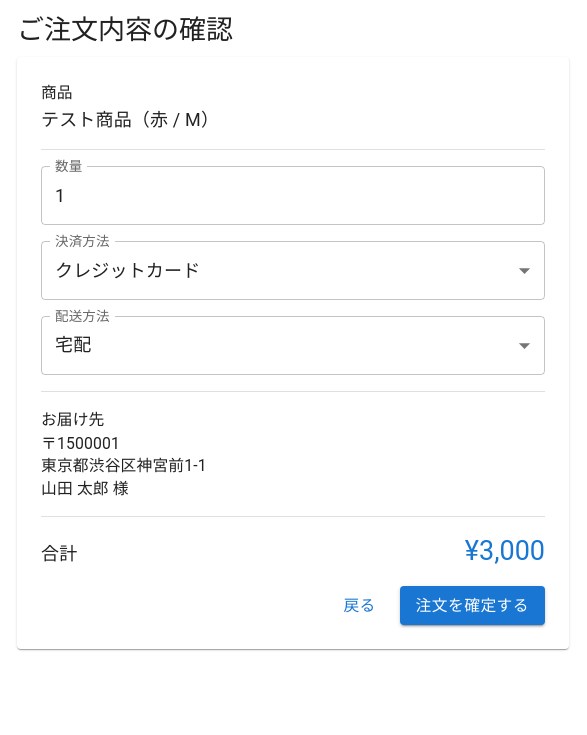
Test: Checkout › 通常モード: 在庫数を超える数量で警告が出てボタンが非活性になる
Replace the text in the number field labelled "数量" with "99" at (293,196), box [41, 166, 545, 225]
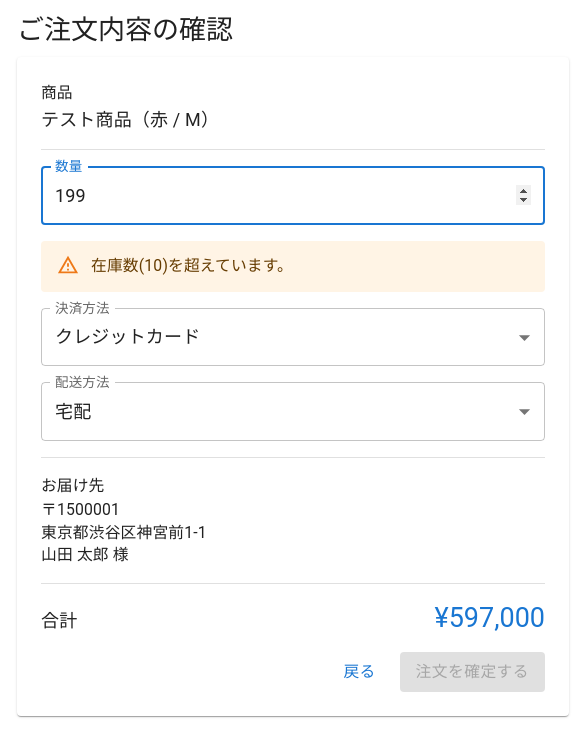
Check: the text "在庫数(10)を超えています。" is shown, box [91, 256, 293, 275]
Check: the button "注文を確定する" is disabled, box [400, 652, 545, 692]
